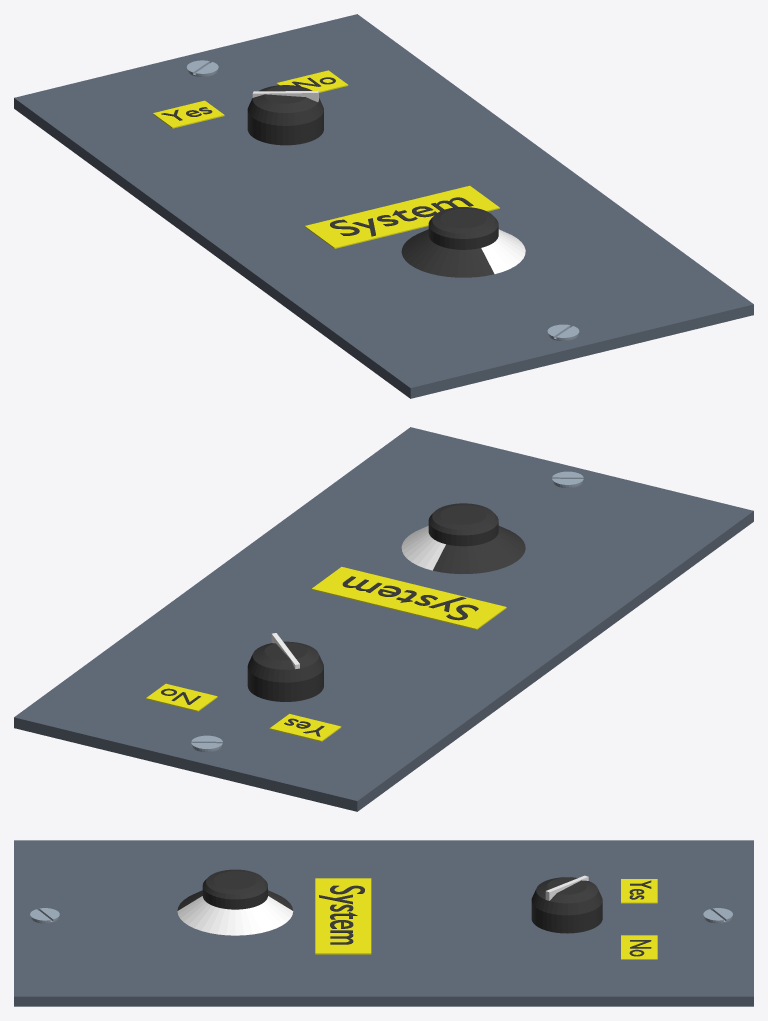
Rendered from test button new.fbx.
3 renders of one model, top to bottom at view 1: azimuth 30°, elevation 25°; view 2: azimuth 150°, elevation 25°; view 3: azimuth 270°, elevation 25°, orthographic. The views are drawn at different scales.
Parts seen in each view (by area): view 1: Buttons; view 2: Buttons; view 3: Buttons.
Part boxes in pixels (x1,y1,x2,y2): Buttons: (14, 14, 753, 398); Buttons: (14, 427, 753, 811); Buttons: (14, 840, 753, 1006).
Size of the model in its own units: 100 by 14.34 by 200.
